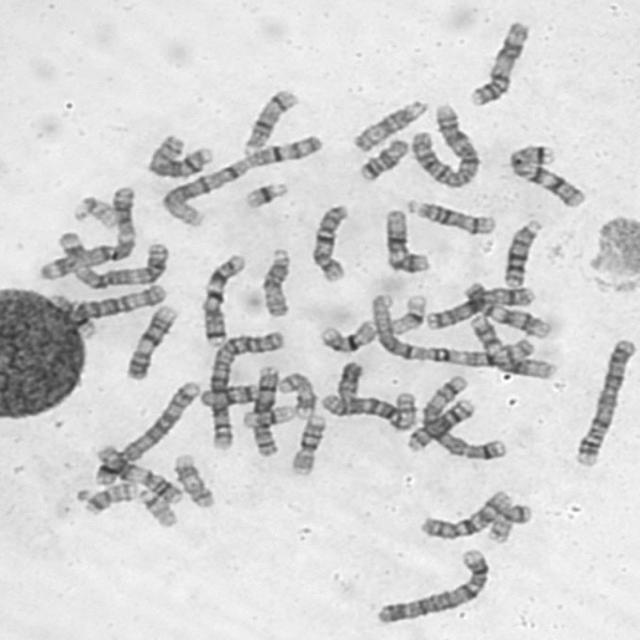A1: (156, 130, 326, 230), (366, 288, 543, 368)
A2: (202, 325, 288, 454), (406, 100, 482, 190)
A3: (33, 181, 139, 282), (52, 227, 170, 290)
B4: (369, 544, 492, 626), (570, 334, 638, 470)
B5: (89, 375, 202, 488), (416, 372, 508, 462)
C10: (415, 486, 515, 542), (306, 200, 352, 284)
C11: (91, 441, 186, 506), (464, 17, 531, 108)
C12: (464, 312, 558, 381), (379, 204, 432, 275)
C6: (316, 387, 420, 433), (71, 279, 168, 327)
C7: (502, 140, 588, 210), (197, 249, 249, 348)
C8: (142, 130, 215, 182), (248, 361, 282, 459)
C9: (459, 279, 553, 340), (121, 300, 179, 381)
D13: (400, 394, 478, 454), (499, 214, 545, 289)
D14: (238, 84, 300, 156), (402, 196, 497, 236)
D15: (347, 94, 430, 154), (257, 243, 293, 319)
E16: (285, 410, 327, 477), (314, 316, 378, 355)
E17: (169, 450, 217, 510), (273, 368, 317, 421)
E18: (353, 133, 411, 183), (195, 380, 260, 410)
F19: (385, 289, 428, 337), (241, 403, 306, 432)
F20: (481, 498, 535, 546), (78, 477, 138, 517)
G21: (47, 294, 98, 345), (238, 176, 291, 211)
G22: (132, 484, 180, 530), (70, 191, 119, 230)
X: (420, 282, 538, 332)
Y: (331, 358, 366, 401)
